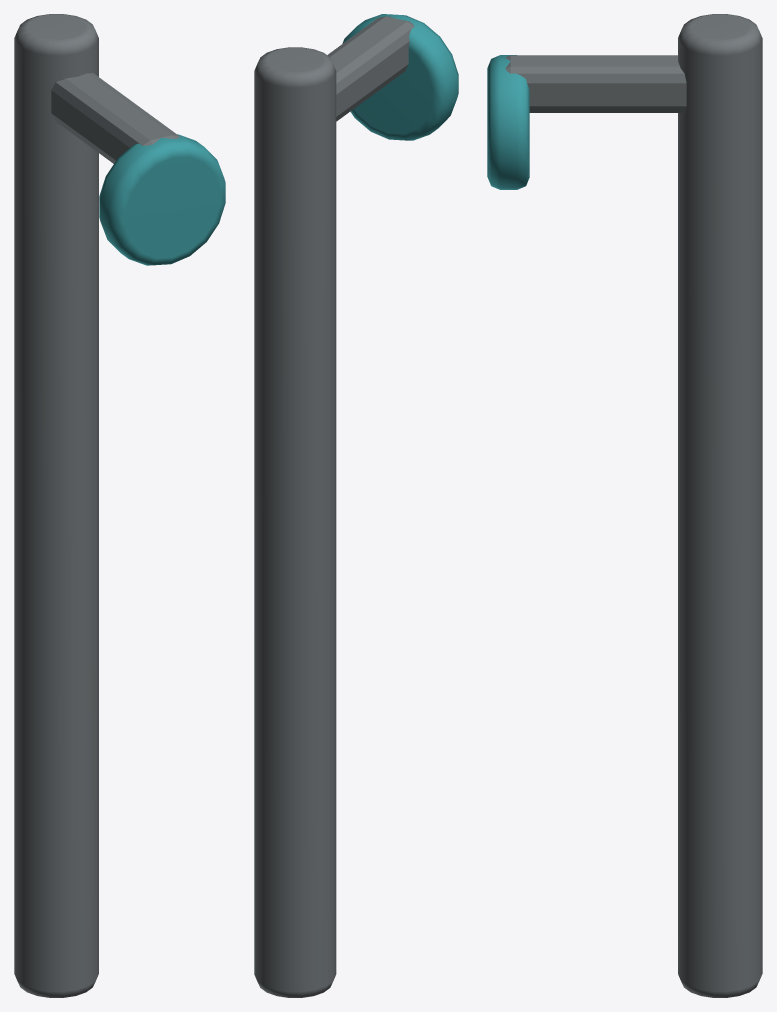
The picture shows the model from 3 angles, left to right: view 1: azimuth 30°, elevation 25°; view 2: azimuth 150°, elevation 25°; view 3: azimuth 270°, elevation 25°; orthographic projection. The views are drawn at different scales.
Visible parts, largest first — view 1: LOD1_BEACH_SHOWER_Post, LOD1_BEACH_SHOWER_Head, LOD1_BEACH_SHOWER_Arm; view 2: LOD1_BEACH_SHOWER_Post, LOD1_BEACH_SHOWER_Head, LOD1_BEACH_SHOWER_Arm; view 3: LOD1_BEACH_SHOWER_Post, LOD1_BEACH_SHOWER_Arm, LOD1_BEACH_SHOWER_Head.
Boxes of the visible parts, box(x1,y1,x2,y2) form: LOD1_BEACH_SHOWER_Post: box(14, 14, 98, 997); LOD1_BEACH_SHOWER_Head: box(99, 134, 225, 265); LOD1_BEACH_SHOWER_Arm: box(51, 73, 179, 163); LOD1_BEACH_SHOWER_Post: box(254, 47, 336, 997); LOD1_BEACH_SHOWER_Head: box(342, 14, 458, 140); LOD1_BEACH_SHOWER_Arm: box(327, 16, 414, 121); LOD1_BEACH_SHOWER_Post: box(678, 14, 762, 997); LOD1_BEACH_SHOWER_Arm: box(505, 55, 686, 112); LOD1_BEACH_SHOWER_Head: box(487, 55, 529, 189).
Size of what is drawn, in the model's own units: 0.3151 by 2.5 by 0.65.
